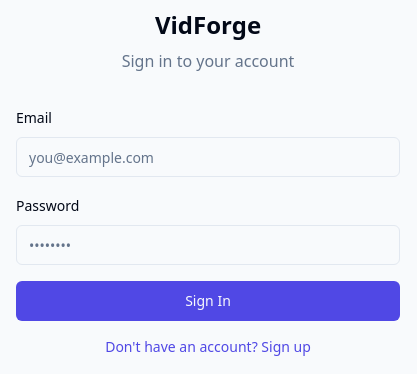
Test: Register Mode › toggles back to login mode
Click the button "Don't have an account? Sign up".
click(208, 347)  # box [105,337,311,357]
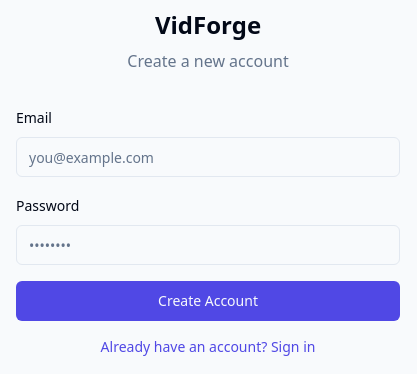
Result: the text "Create a new account" is shown at [127,50,289,72]
Click the button "Already have an account? Sign in".
click(208, 347)  # box [101,337,315,357]
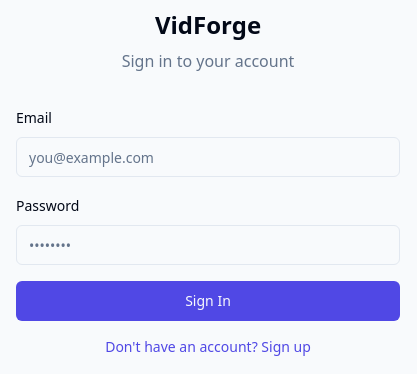
Result: the text "Sign in to your account" is shown at [122,50,294,72]
